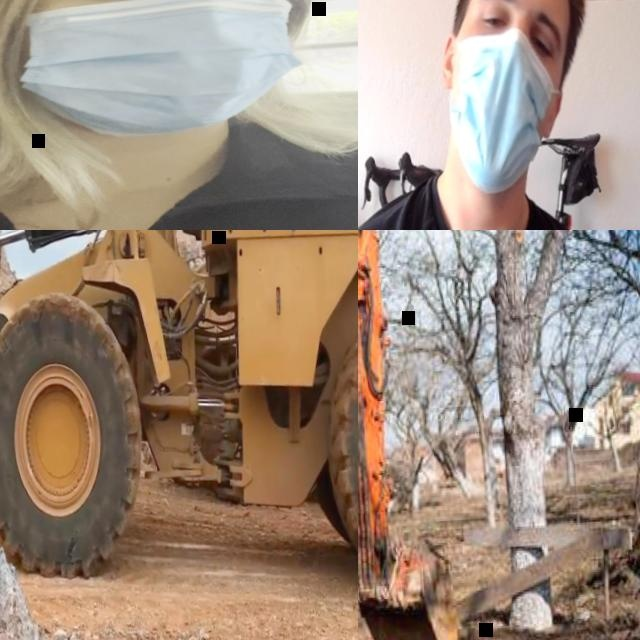Mask: (16, 0, 302, 140), (443, 29, 568, 201)
NO-Safety Vest: (0, 126, 358, 230)
Person: (0, 0, 358, 230), (358, 0, 640, 230)
machinery: (0, 230, 358, 640), (358, 230, 472, 640)
